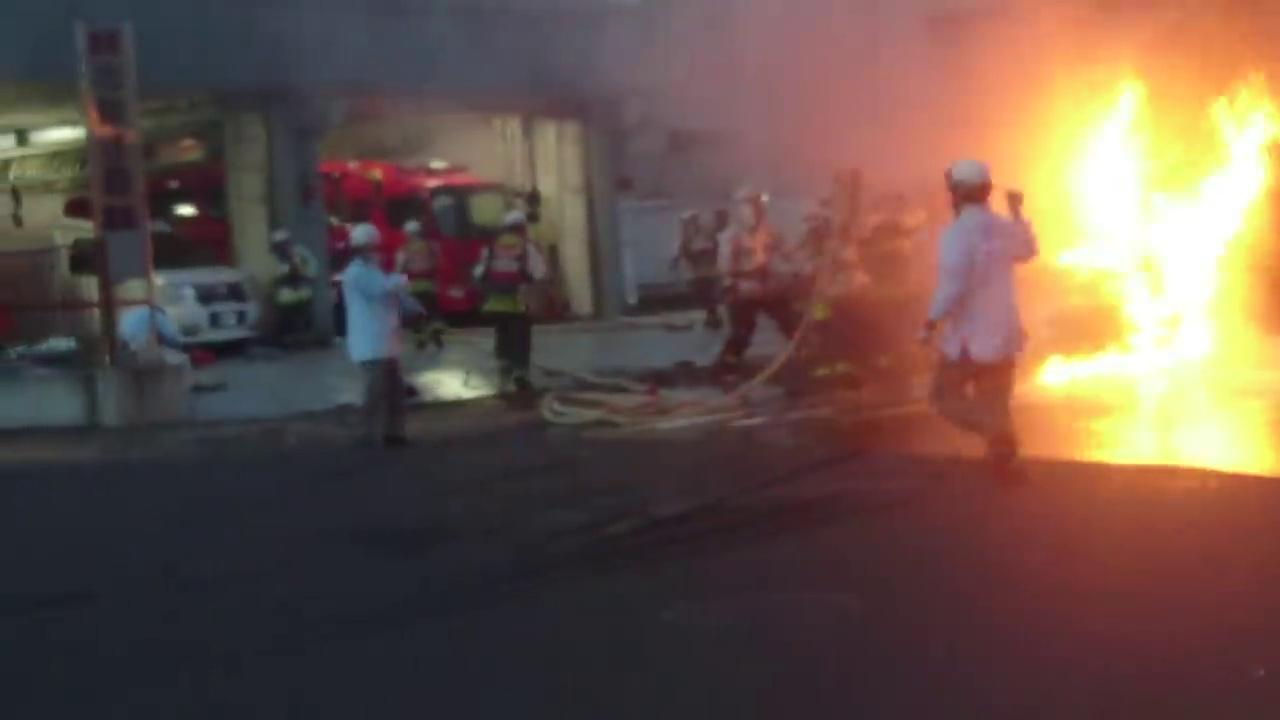Fire: (991, 69, 1280, 472)
